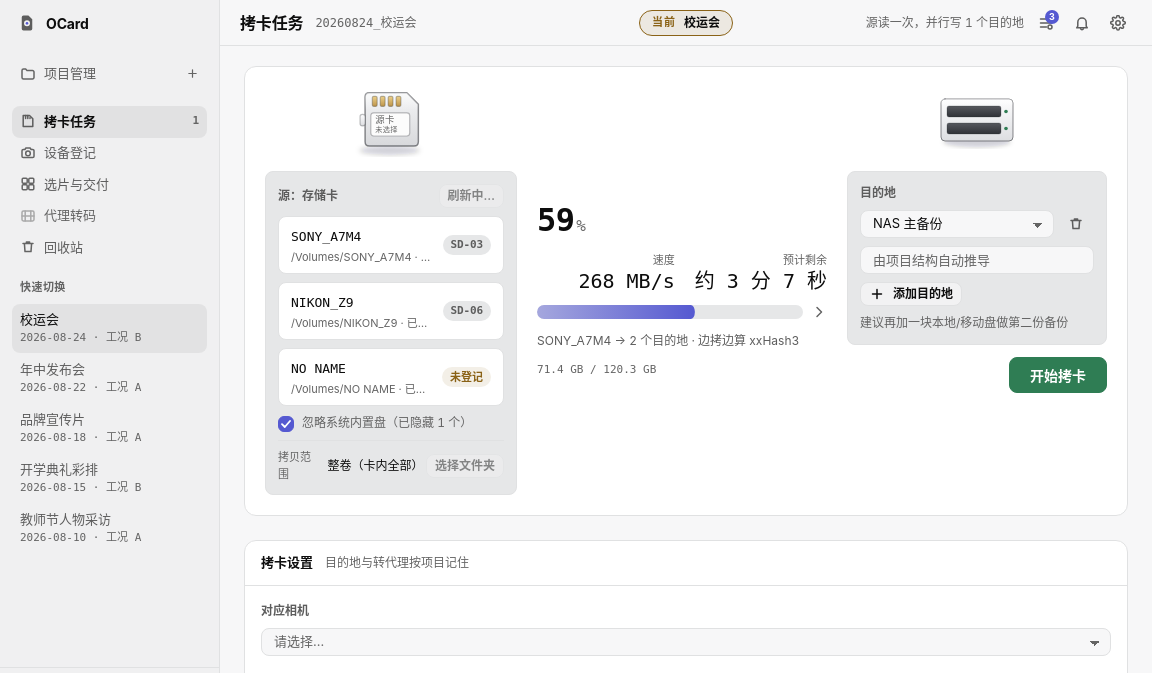
任务中心 › 交付打包进行中任务行跳转不再禁用(评审 4.3):导航放行
Click the button with test id "task-center-toggle": (1046, 22) [1032,8,1060,36]
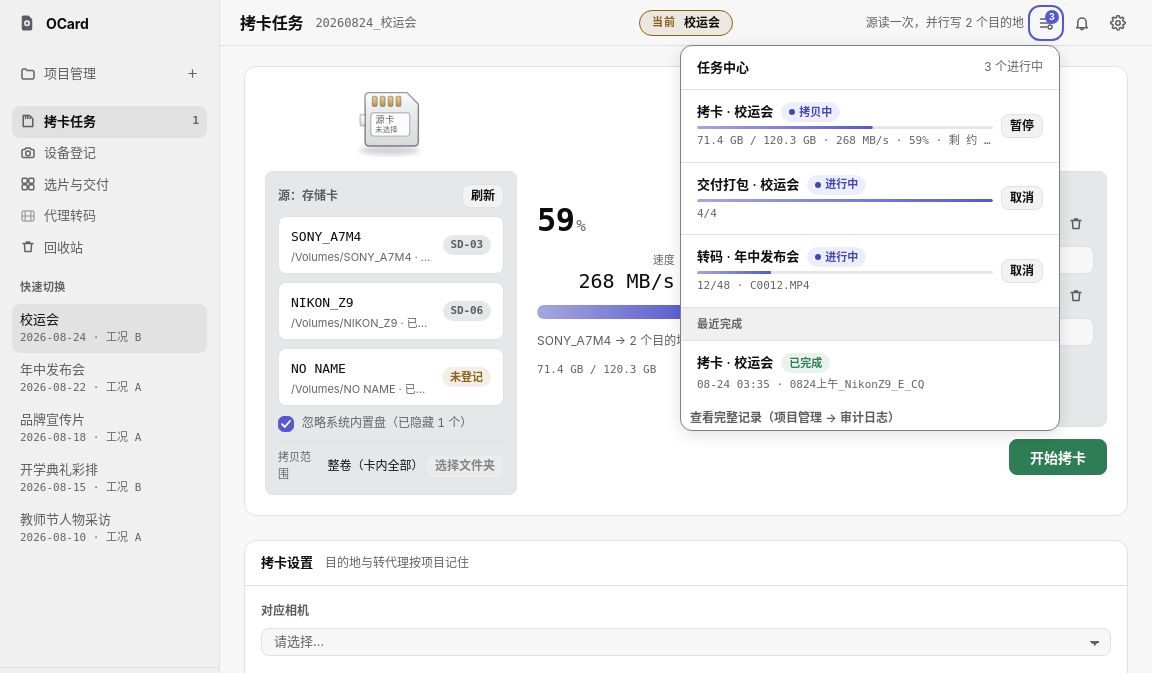
Now the button with aria-label "打开转码：年中发布会" is enabled, box [697,247,993,294]
